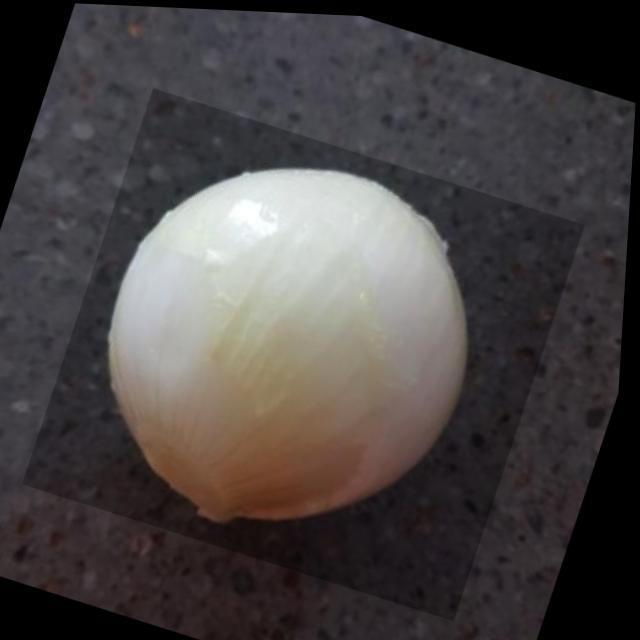Onion: (103, 169, 471, 522)
